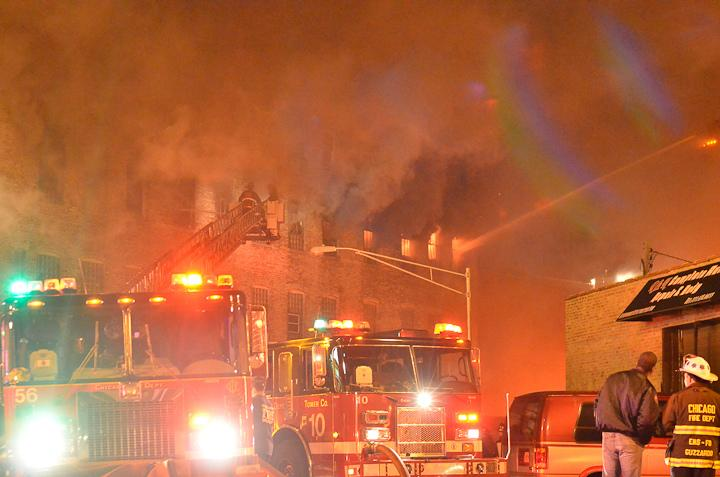fire: (168, 270, 214, 289)
